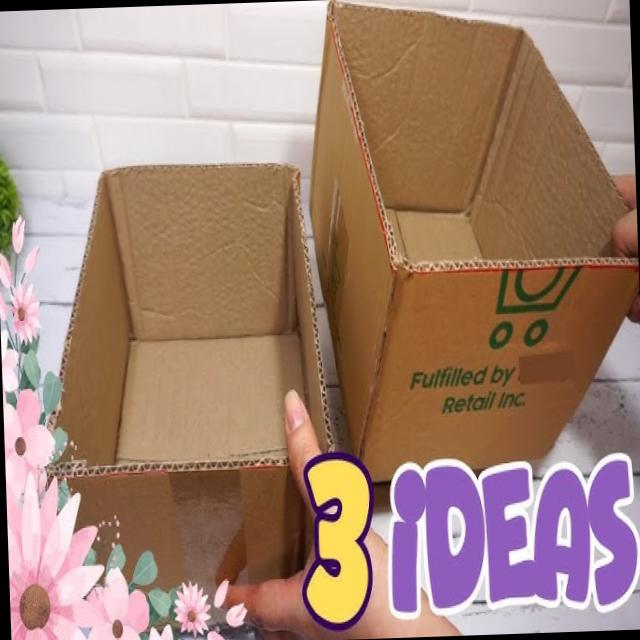cardboard_box: (304, 13, 640, 511), (30, 144, 361, 571)
